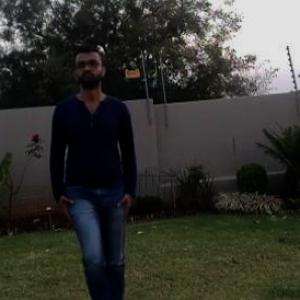follow: (45, 23, 144, 299)
